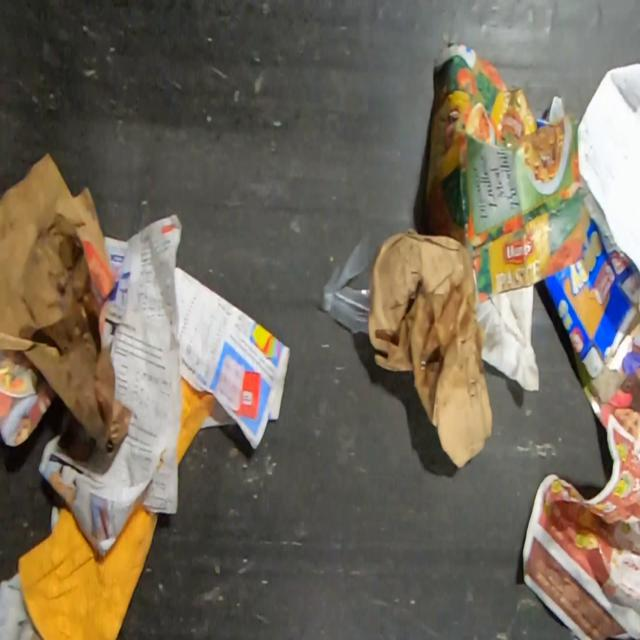cardboard: (423, 42, 592, 303), (541, 174, 640, 407), (0, 351, 57, 447)
soft_plastic: (319, 228, 373, 335)
